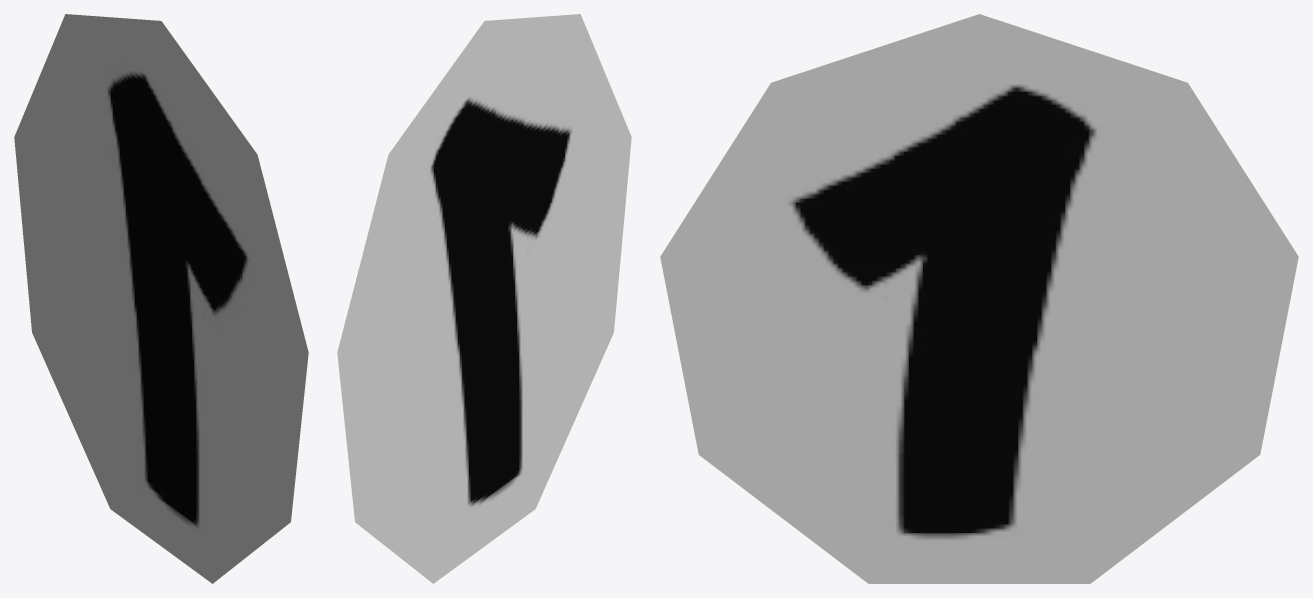
3 views of the same model, side by side, from view 1: azimuth 30°, elevation 25°; view 2: azimuth 150°, elevation 25°; view 3: azimuth 270°, elevation 25° (orthographic). The views are drawn at different scales.
Visible parts, largest first — view 1: one; view 2: one; view 3: one.
Boxes of the visible parts, box(x1,y1,x2,y2) form: one: box(14, 14, 308, 583); one: box(337, 14, 631, 583); one: box(660, 14, 1298, 583).
Bounding box in the file's own units: 1.07e-08 × 0.2459 × 0.2497.
1 material, 1 textured.
